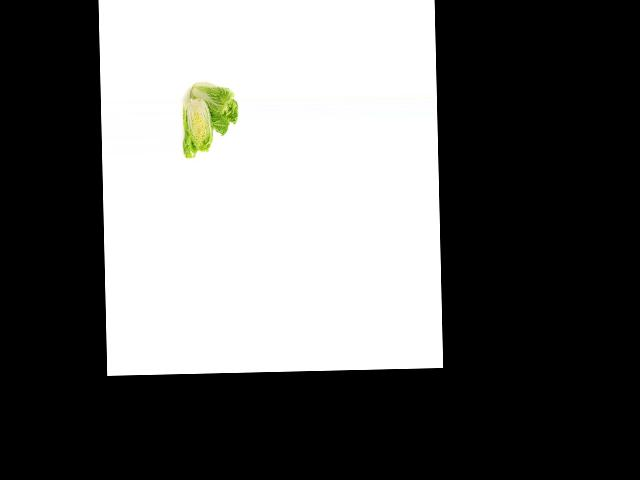lettuce: (186, 79, 241, 139)
